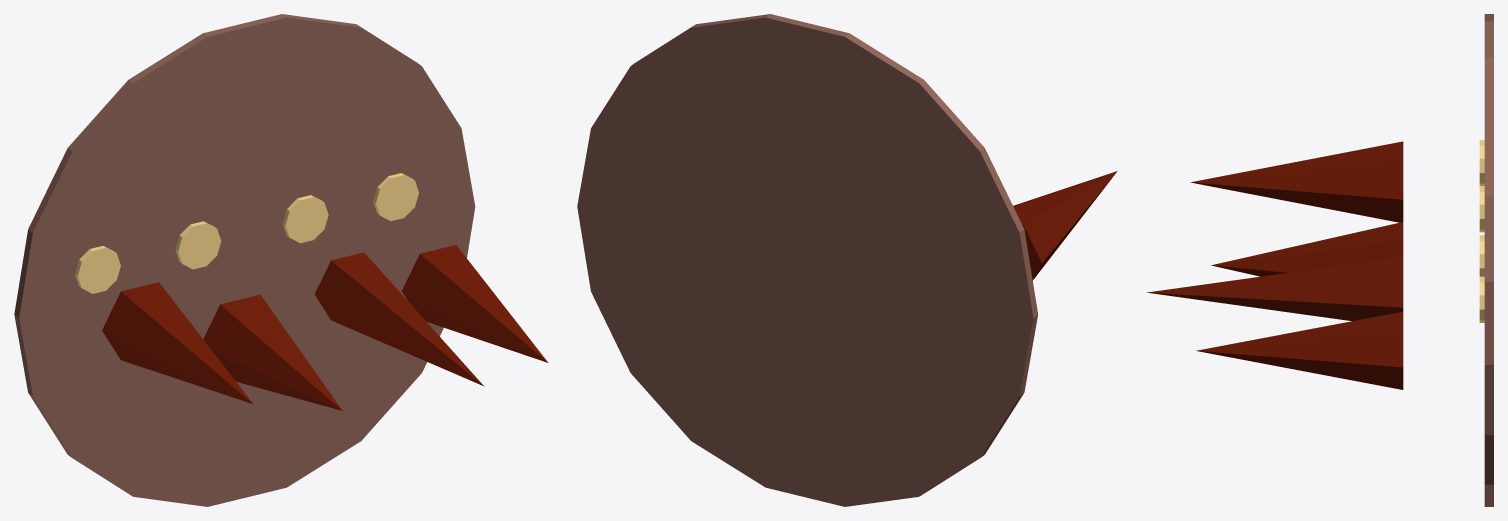
Rendered from 02_display_prop_cluster.glb.
The picture shows the model from 3 angles, left to right: view 1: azimuth 30°, elevation 25°; view 2: azimuth 150°, elevation 25°; view 3: azimuth 270°, elevation 25°; orthographic projection. The views are drawn at different scales.
Visible parts, largest first — view 1: scatter_base, basalt_shard_0, basalt_shard_2, basalt_shard_1, basalt_shard_3, lava_glow_1, lava_glow_0, lava_glow_2, lava_glow_3; view 2: scatter_base, basalt_shard_0; view 3: basalt_shard_2, basalt_shard_0, basalt_shard_3, scatter_base, basalt_shard_1.
Part boxes in pixels (x1,y1,x2,y2): scatter_base: (14, 14, 475, 506); basalt_shard_0: (102, 282, 252, 403); basalt_shard_2: (314, 252, 483, 385); basalt_shard_1: (203, 294, 342, 410); basalt_shard_3: (402, 245, 548, 362); lava_glow_1: (175, 221, 221, 269); lava_glow_0: (75, 246, 120, 293); lava_glow_2: (282, 195, 328, 243); lava_glow_3: (373, 173, 418, 220); scatter_base: (577, 14, 1038, 506); basalt_shard_0: (1013, 171, 1117, 280); basalt_shard_2: (1147, 257, 1403, 321); basalt_shard_0: (1190, 141, 1403, 222); basalt_shard_3: (1196, 311, 1403, 389); scatter_base: (1484, 14, 1493, 506); basalt_shard_1: (1211, 222, 1403, 276).
Size of the model in its own units: 1.9 by 1.87 by 1.34.
